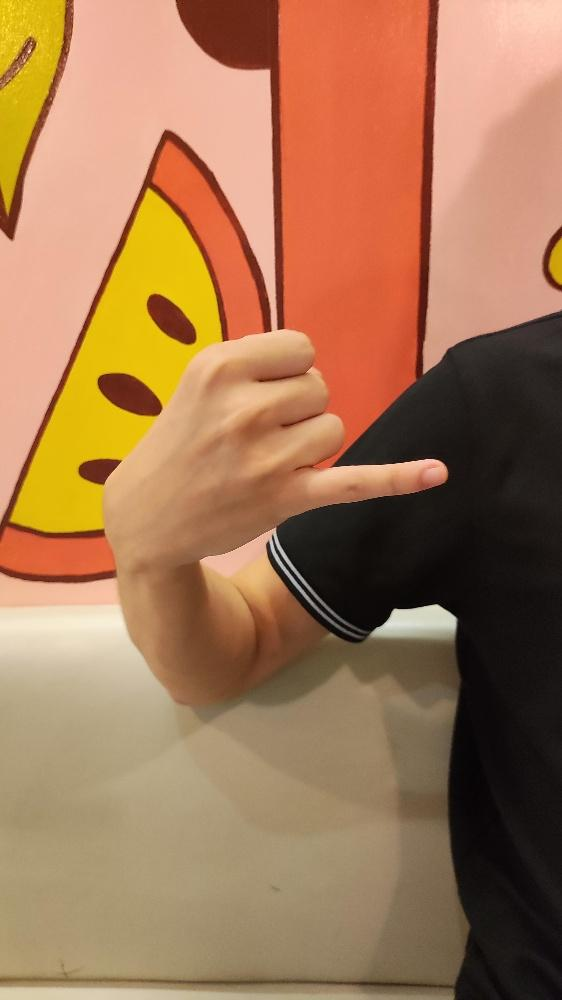j: (98, 326, 450, 566)
